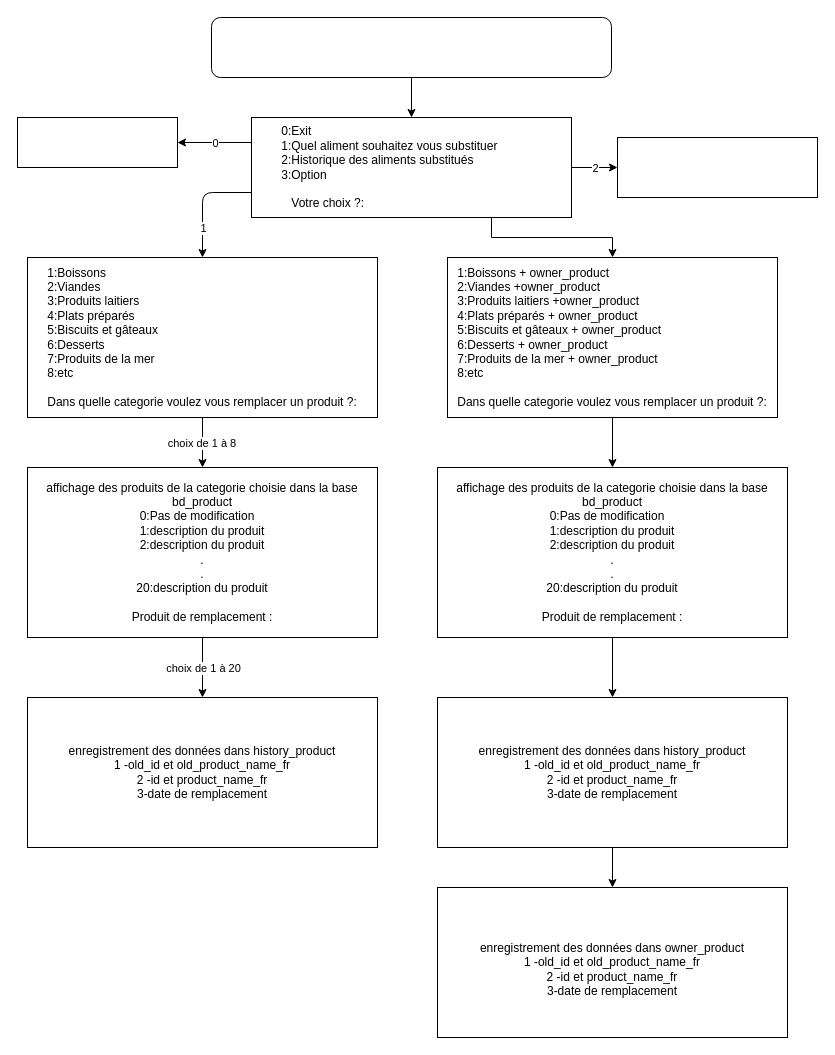
The diagram is 835 pixels wide and 1055 high, and some of its shapes have lost their labels. Here are the shapes that lost their labels. From the top down, the centre of each, then its label:
pixel 411 47: Debut création et chargement des tables db_product et category_product
pixel 97 142: Fermeture du programme
pixel 717 167: affichage de la liste des produits substitués (history_product)
